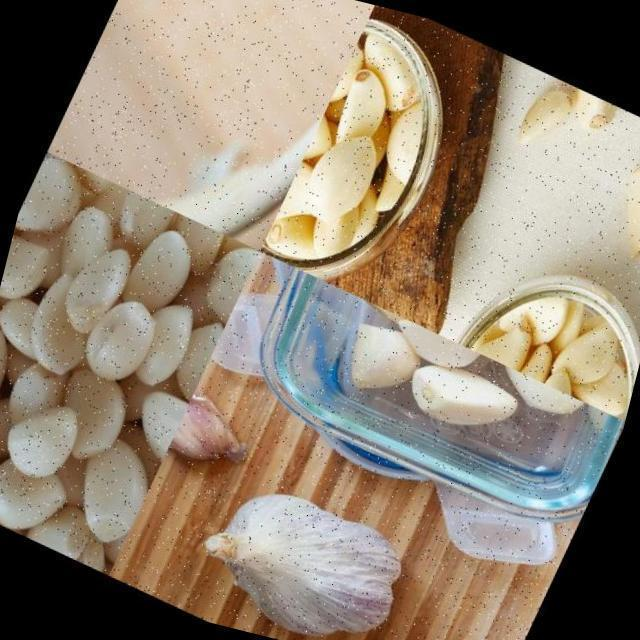garlic: (0, 148, 269, 590), (255, 12, 470, 308), (313, 294, 599, 482), (176, 453, 434, 640), (465, 258, 640, 419), (164, 352, 275, 482), (505, 67, 625, 178), (596, 143, 640, 264)
